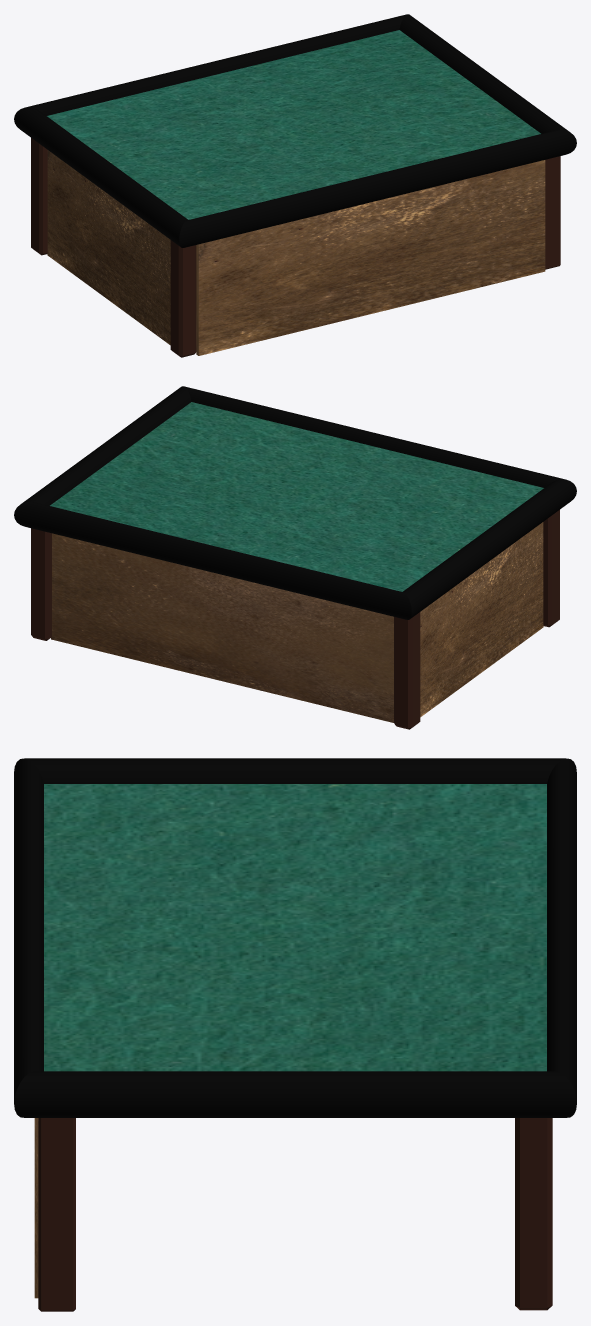
File: Card-table_Green felt_Black Trim_Leather Sides.fbx
The picture shows the model from 3 angles, top to bottom: view 1: azimuth 30°, elevation 25°; view 2: azimuth 150°, elevation 25°; view 3: azimuth 270°, elevation 25°; orthographic projection. The views are drawn at different scales.
Visible parts, largest first — view 1: Table_Top, Front_Panel2, Table_Edge1, Side_panel_2, Leg_1, Leg_2, Leg_4; view 2: Table_Top, Front_Panel, Table_Edge1, Side_panel_2, Leg_2, Leg_3, Leg_1; view 3: Table_Top, Table_Edge1, Leg_4, Leg_3, Front_Panel2.
Boxes of the visible parts, x1,y1,x2,y2 form: Table_Top: (47, 30, 540, 219); Front_Panel2: (196, 160, 545, 355); Table_Edge1: (14, 14, 576, 247); Side_panel_2: (47, 150, 170, 345); Leg_1: (170, 240, 196, 357); Leg_2: (31, 138, 47, 255); Leg_4: (545, 156, 560, 269); Table_Top: (50, 402, 543, 591); Front_Panel: (51, 533, 393, 722); Table_Edge1: (14, 386, 576, 619); Side_panel_2: (420, 522, 543, 717); Leg_2: (394, 612, 420, 729); Leg_3: (31, 528, 51, 640); Leg_1: (543, 510, 559, 627); Table_Top: (44, 784, 546, 1071); Table_Edge1: (14, 758, 576, 1117); Leg_4: (38, 1118, 75, 1311); Leg_3: (515, 1118, 552, 1310); Front_Panel2: (34, 1118, 38, 1298).
Bounding box in the file's own units: 3.29 × 1.1 × 2.36.
4 materials, 2 textured.
